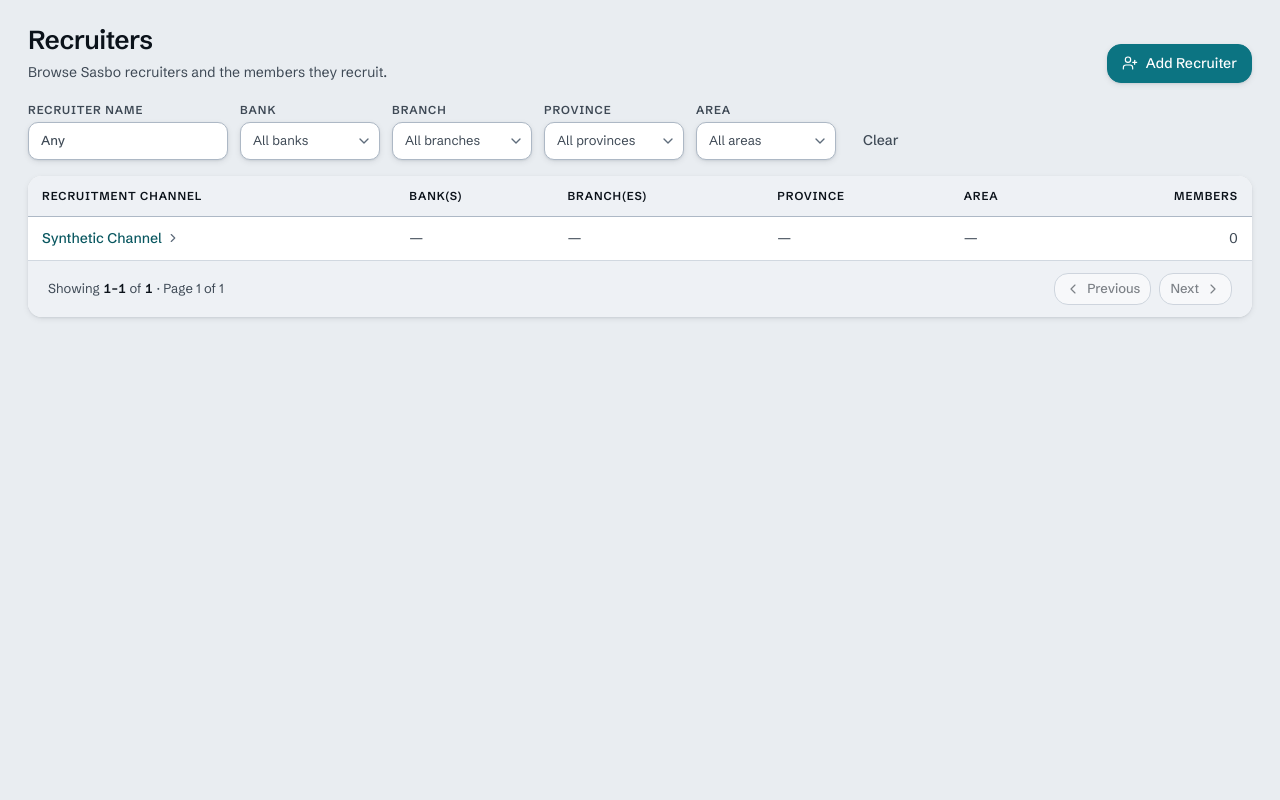
Scenario: Recruiters › ⑥ an action that worked says so › adding a member to a recruiter says who was added
This screenshot has width=1280, height=800.
What coordinates should you click on to do the following:
click the button with aria-label "Synthetic Channel — show the members recruited"
I would click on:
 (111, 238)
Its box is [42,228,180,248].
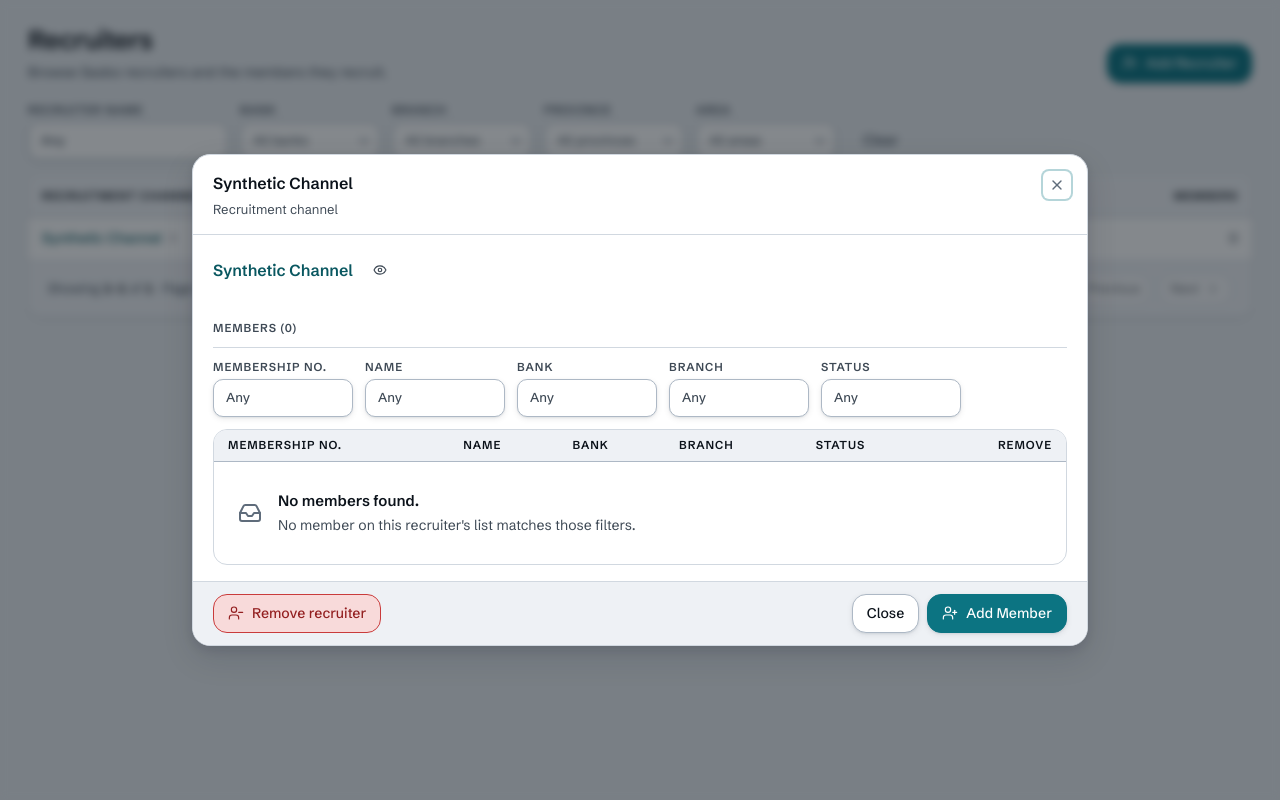
What coordinates should you click on to do the following:
click the button "Add Member"
I would click on:
 (997, 614)
Its box is [927,594,1067,633].
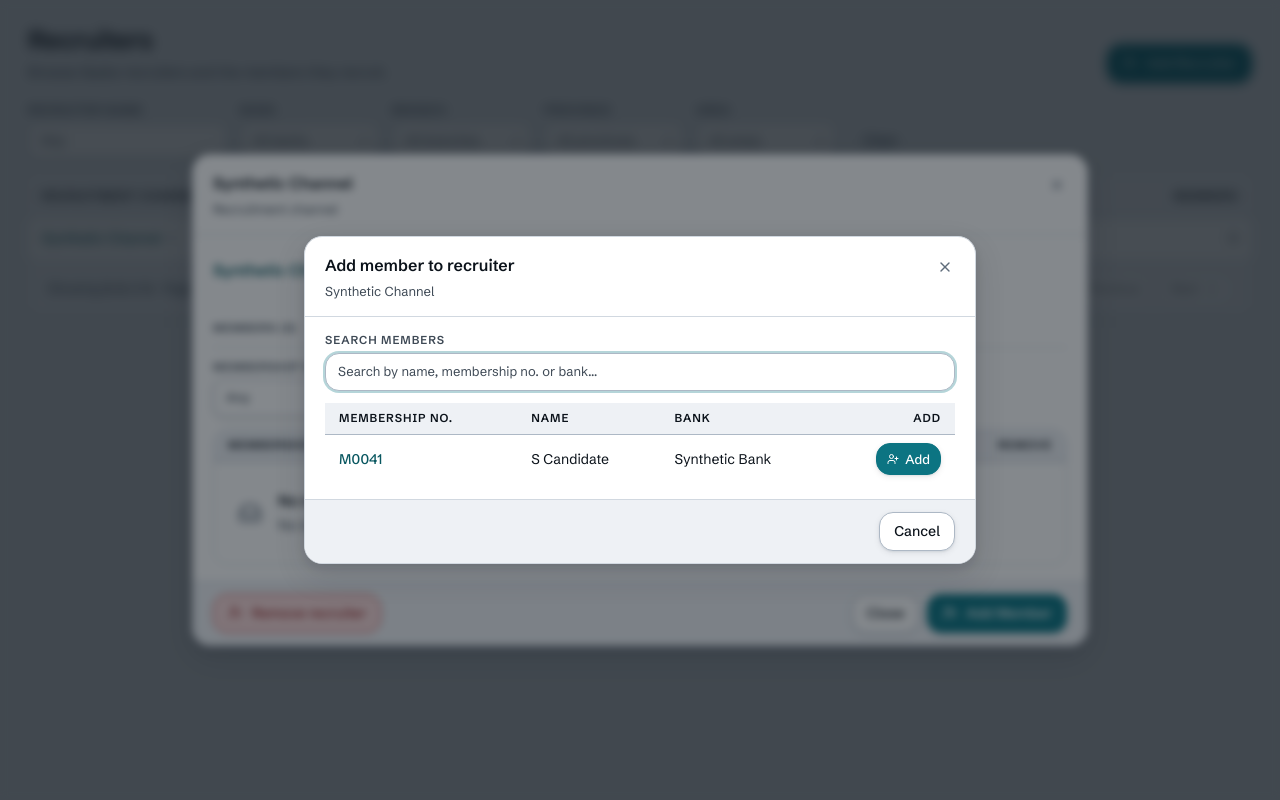
What coordinates should you click on to do the following:
click the button with aria-label "Add S Candidate to this recruiter"
I would click on:
 (909, 459)
Its box is [876,443,941,475].
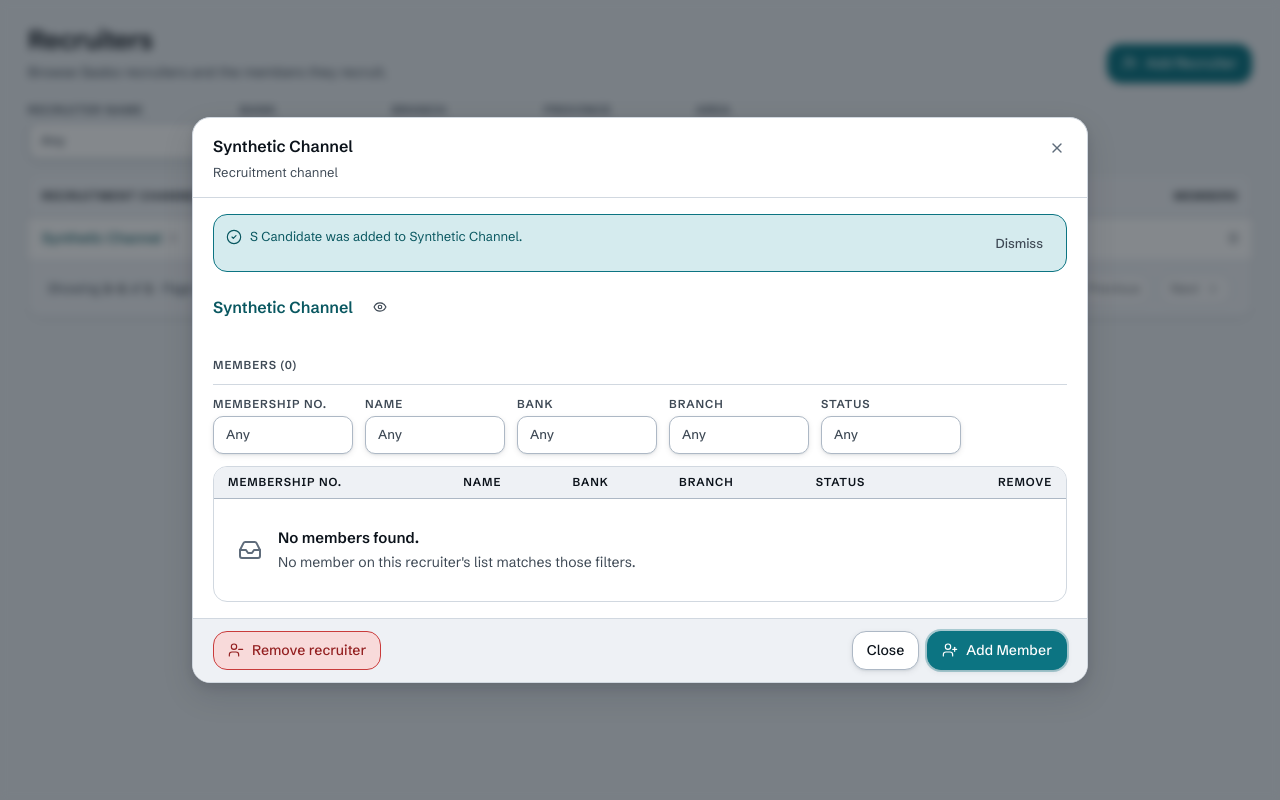
Now the text "S Candidate was added to Synthetic Channel." is shown, box [250,228,522,244]
